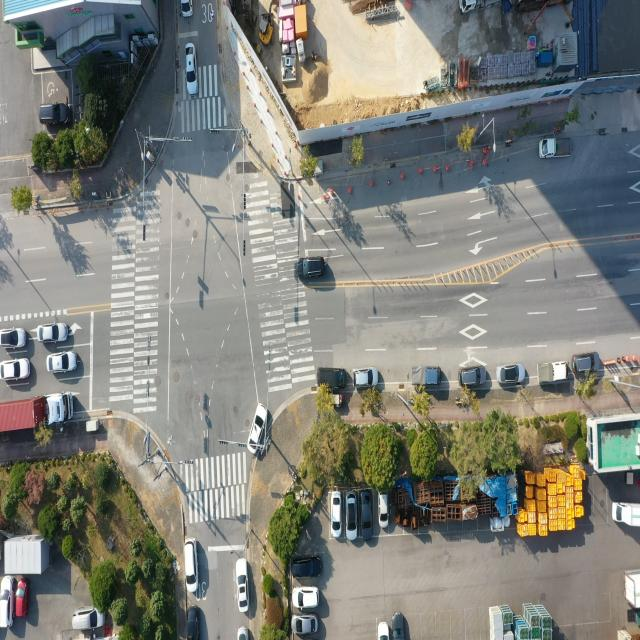car: (248, 402, 268, 453), (71, 609, 104, 634), (40, 102, 72, 127), (0, 577, 14, 631), (318, 366, 349, 390), (297, 256, 326, 280), (184, 539, 197, 592), (1, 358, 30, 381), (496, 362, 525, 385), (47, 351, 77, 373), (294, 558, 322, 581), (38, 322, 67, 344), (236, 560, 248, 612), (360, 492, 373, 540), (462, 364, 489, 387), (572, 353, 600, 375), (0, 329, 26, 351), (185, 44, 196, 96), (346, 493, 358, 539), (352, 368, 378, 389), (294, 588, 318, 610), (294, 617, 319, 637), (15, 581, 28, 619), (333, 492, 343, 538), (186, 605, 199, 640), (379, 494, 389, 529), (393, 613, 405, 640), (379, 623, 391, 640), (238, 627, 250, 640)
large_truck: (0, 394, 74, 437)
medium_truck: (624, 575, 640, 614), (459, 0, 486, 16)
small_truck: (540, 136, 574, 160), (536, 360, 568, 385), (409, 365, 442, 389), (614, 502, 640, 528), (178, 0, 192, 18)
